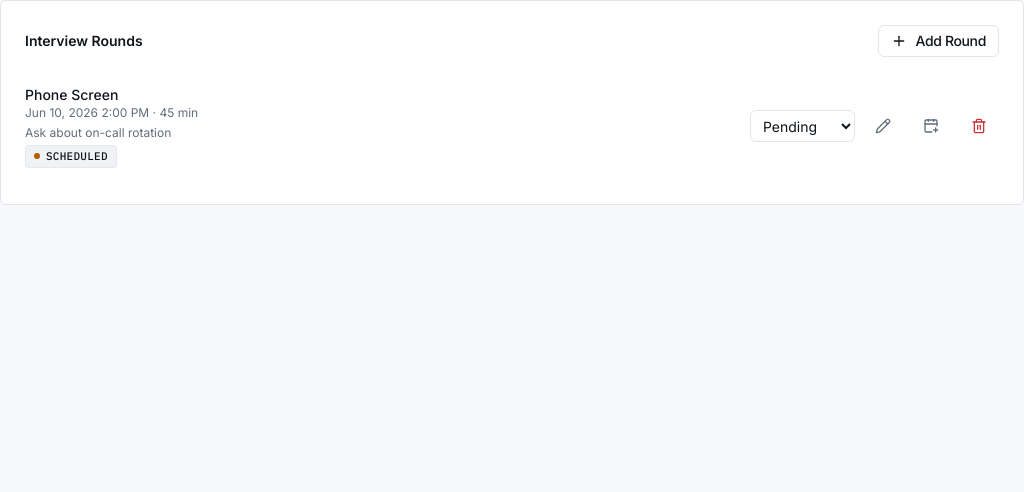
Test: InterviewRounds › edit flow › pre-fills stage, local date-time, length, and notes
This screenshot has width=1024, height=492.
Click the button named "edit phone screen": (883, 126) [863,110,903,142]
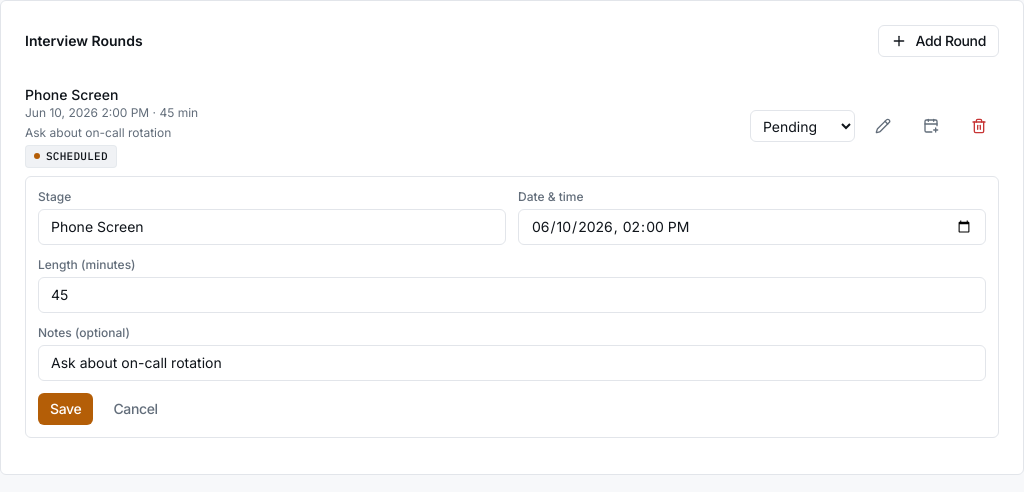
Expected: the field labelled "Stage" holds "Phone Screen", [38,208,506,244]
Expected: the field labelled "Date & time" holds "2026-06-10T14:00", [518,208,986,244]
Expected: the number field labelled "Length (minutes)" holds "45", [38,276,986,312]
